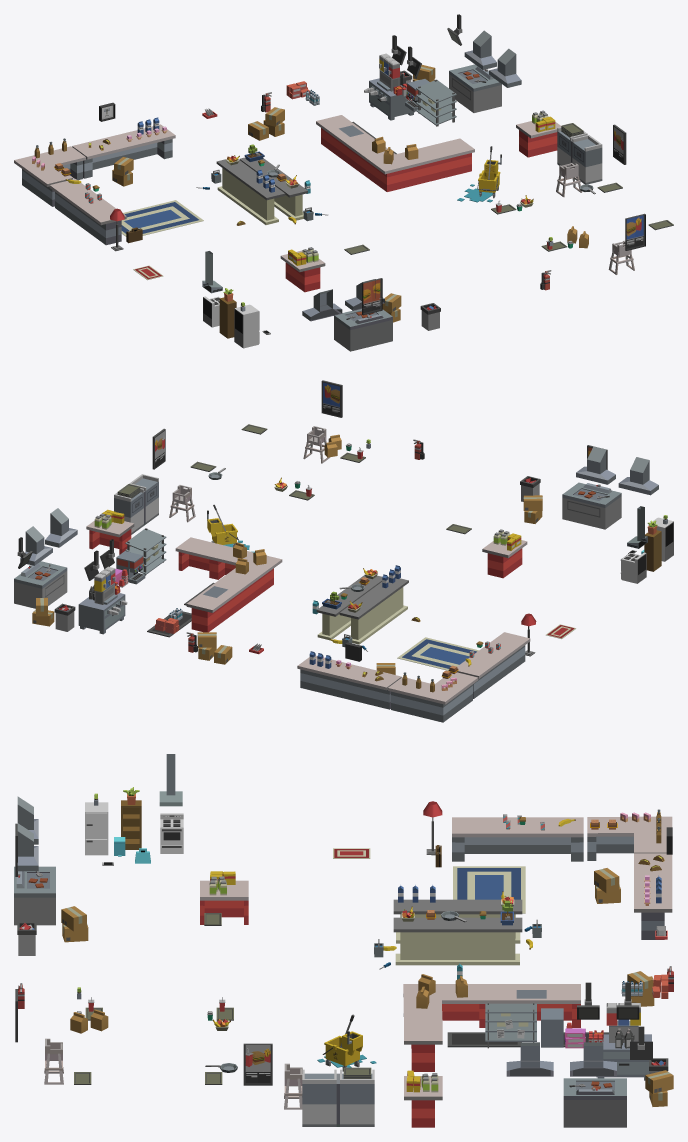
File: Kitchen (2)_hub.FBX
The picture shows the model from 3 angles, top to bottom: view 1: azimuth 30°, elevation 25°; view 2: azimuth 150°, elevation 25°; view 3: azimuth 270°, elevation 25°; orthographic projection. The views are drawn at different scales.
Parts seen in each view (by area): view 1: SI_Prop_Counter_09, SI_Prop_Counter_02, SI_Prop_Counter_02 (1), Prop_Bar_Bench (1), SI_Prop_Counter_06, SI_Prop_CookingSurface_01 (1), SI_Prop_CookingSurface_01, SI_Prop_TrashBins_01, Prop_Rug_02, SI_Prop_Counter_07, SI_Prop_Shelf_07, SI_Prop_Counter_20 (+14 smaller); view 2: SI_Prop_Counter_02, SI_Prop_Counter_06, Prop_Bar_Bench (1), SI_Prop_Counter_02 (1), SI_Prop_CookingSurface_01 (1), SI_Prop_Counter_07, SI_Prop_Counter_09, SI_Prop_CookingSurface_01, SI_Prop_TrashBins_01, Prop_Rug_02, Prop_Bar_Bench, SI_Prop_KitchenCounter_03 (+17 smaller); view 3: Prop_Bar_Bench, SI_Prop_Counter_02 (1), SI_Prop_TrashBins_01, SI_Prop_CookingSurface_01, SI_Prop_Counter_06, SI_Prop_Counter_09, Prop_Rug_02, SI_Prop_Counter_02, SI_Prop_Counter_07, SI_Prop_CookingSurface_01 (1), Prop_Bar_Bench (1), SI_Prop_Shelf_07 (+21 smaller).
Part boxes in pixels (box(x1,y1,x2,y2)): SI_Prop_Counter_09: box(352, 142, 441, 191); SI_Prop_Counter_02: box(72, 124, 175, 178); SI_Prop_Counter_02 (1): box(49, 179, 126, 245); Prop_Bar_Bench (1): box(216, 159, 285, 224); SI_Prop_Counter_06: box(14, 146, 85, 206); SI_Prop_CookingSurface_01 (1): box(334, 309, 392, 351); SI_Prop_CookingSurface_01: box(449, 64, 501, 112); SI_Prop_TrashBins_01: box(557, 127, 602, 184); Prop_Rug_02: box(121, 200, 203, 236); SI_Prop_Counter_07: box(316, 115, 374, 169); SI_Prop_Shelf_07: box(416, 79, 456, 126); SI_Prop_Counter_20: box(427, 138, 474, 179); SI_Prop_Counter_02: box(297, 655, 401, 709); SI_Prop_Counter_06: box(388, 672, 478, 722); Prop_Bar_Bench (1): box(339, 577, 408, 644); SI_Prop_Counter_02 (1): box(457, 632, 530, 698); SI_Prop_CookingSurface_01 (1): box(562, 482, 621, 529); SI_Prop_Counter_07: box(186, 577, 248, 632); SI_Prop_Counter_09: box(209, 545, 282, 606); SI_Prop_CookingSurface_01: box(14, 561, 67, 608); SI_Prop_TrashBins_01: box(114, 474, 158, 534); Prop_Rug_02: box(397, 637, 478, 670); Prop_Bar_Bench: box(316, 575, 382, 640); SI_Prop_KitchenCounter_03: box(78, 593, 125, 634); Prop_Bar_Bench: box(393, 917, 522, 965); SI_Prop_Counter_02 (1): box(452, 817, 583, 861); SI_Prop_TrashBins_01: box(302, 1069, 374, 1126); SI_Prop_CookingSurface_01: box(563, 1078, 626, 1127); SI_Prop_Counter_06: box(587, 816, 672, 860); SI_Prop_Counter_09: box(403, 984, 488, 1048); Prop_Rug_02: box(453, 866, 525, 913); SI_Prop_Counter_02: box(634, 853, 672, 939); SI_Prop_Counter_07: box(488, 984, 580, 1027); SI_Prop_CookingSurface_01 (1): box(14, 866, 55, 925); Prop_Bar_Bench (1): box(393, 899, 522, 943); SI_Prop_Shelf_07: box(485, 1002, 536, 1048).
Bounding box in the file's own units: 28691 × 4568 × 28463.
Materials: 3 (3 with a texture image).
